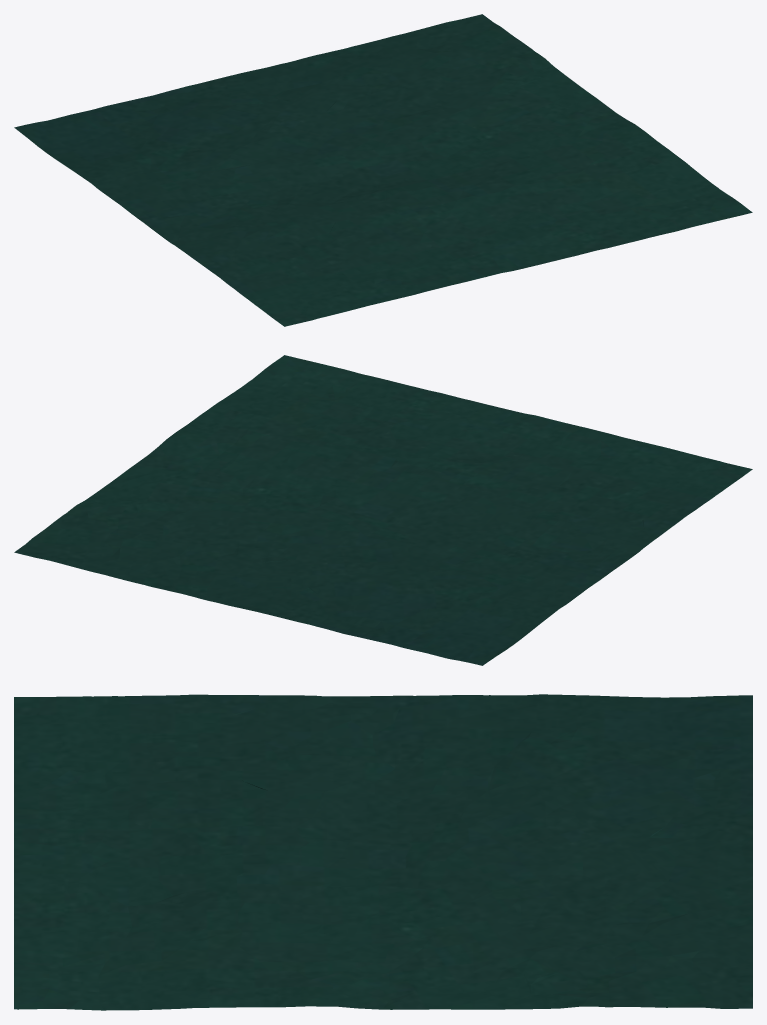
3 views of the same model, one above another, from view 1: azimuth 30°, elevation 25°; view 2: azimuth 150°, elevation 25°; view 3: azimuth 270°, elevation 25° (orthographic). The views are drawn at different scales.
Bounding box in the file's own units: 104 × 1.06 × 104.
Materials: 2 (2 with a texture image).
